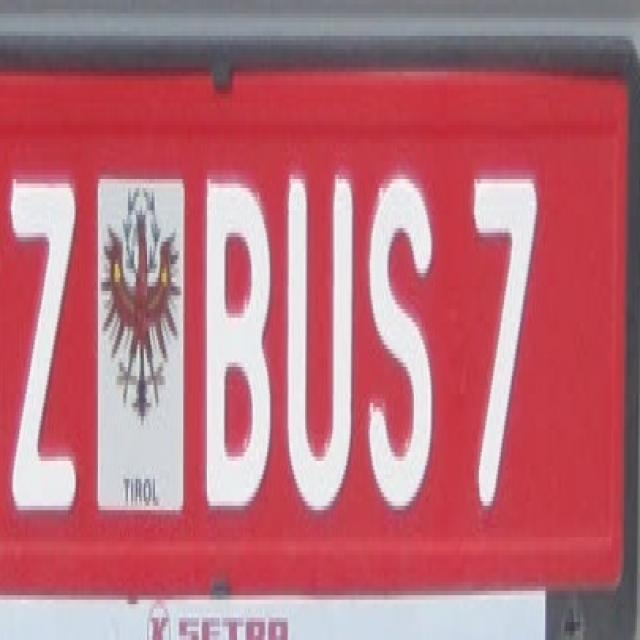licenseplate: (0, 8, 634, 617)
